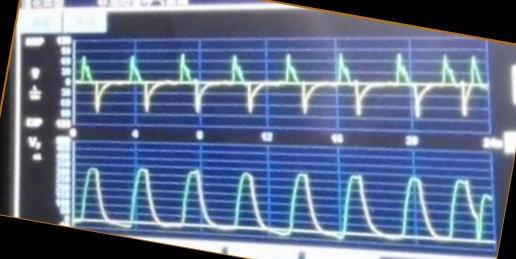Accumulation Flow: (78, 51, 486, 121)
Volume: (76, 162, 491, 242)
